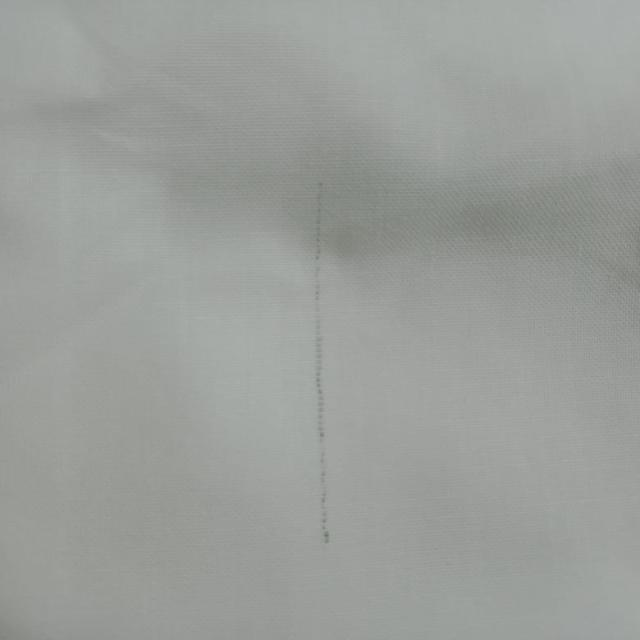contamination: (299, 160, 351, 552)
